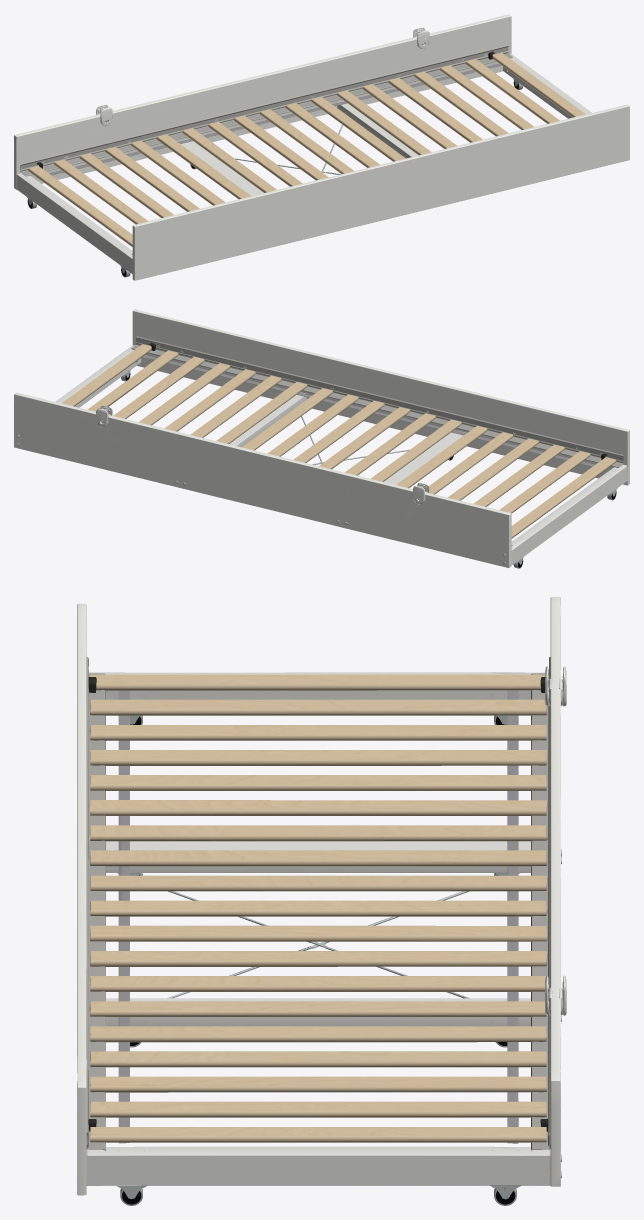
The picture shows the model from 3 angles, top to bottom: view 1: azimuth 30°, elevation 25°; view 2: azimuth 150°, elevation 25°; view 3: azimuth 270°, elevation 25°; orthographic projection. The views are drawn at different scales.
Parts seen in each view (by area): view 1: ASY_ART_60595111_S01_NV01; view 2: ASY_ART_60595111_S01_NV01; view 3: ASY_ART_60595111_S01_NV01.
Boxes of the visible parts, left/top/right/bottom form: ASY_ART_60595111_S01_NV01: left=14, top=14, right=629, bottom=280; ASY_ART_60595111_S01_NV01: left=14, top=309, right=629, bottom=567; ASY_ART_60595111_S01_NV01: left=77, top=597, right=566, bottom=1199.
Bounding box in the file's own units: 2 × 0.2761 × 0.8561.
2 materials, 2 textured.
